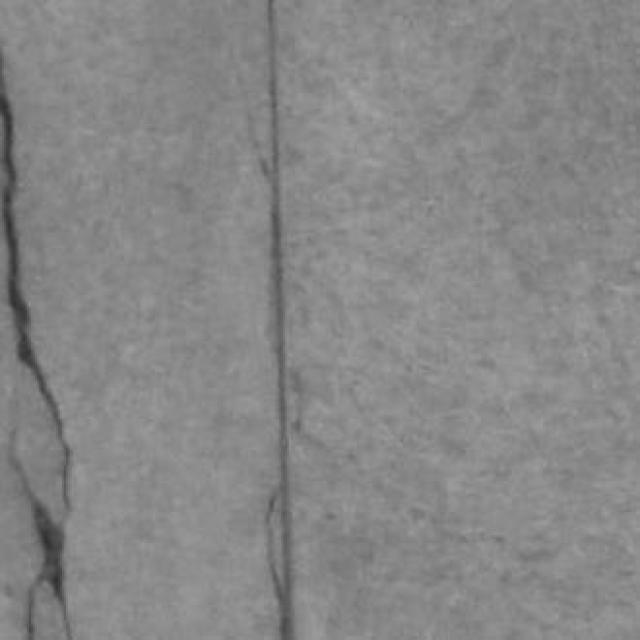crack: (0, 51, 71, 639), (268, 0, 294, 639)
